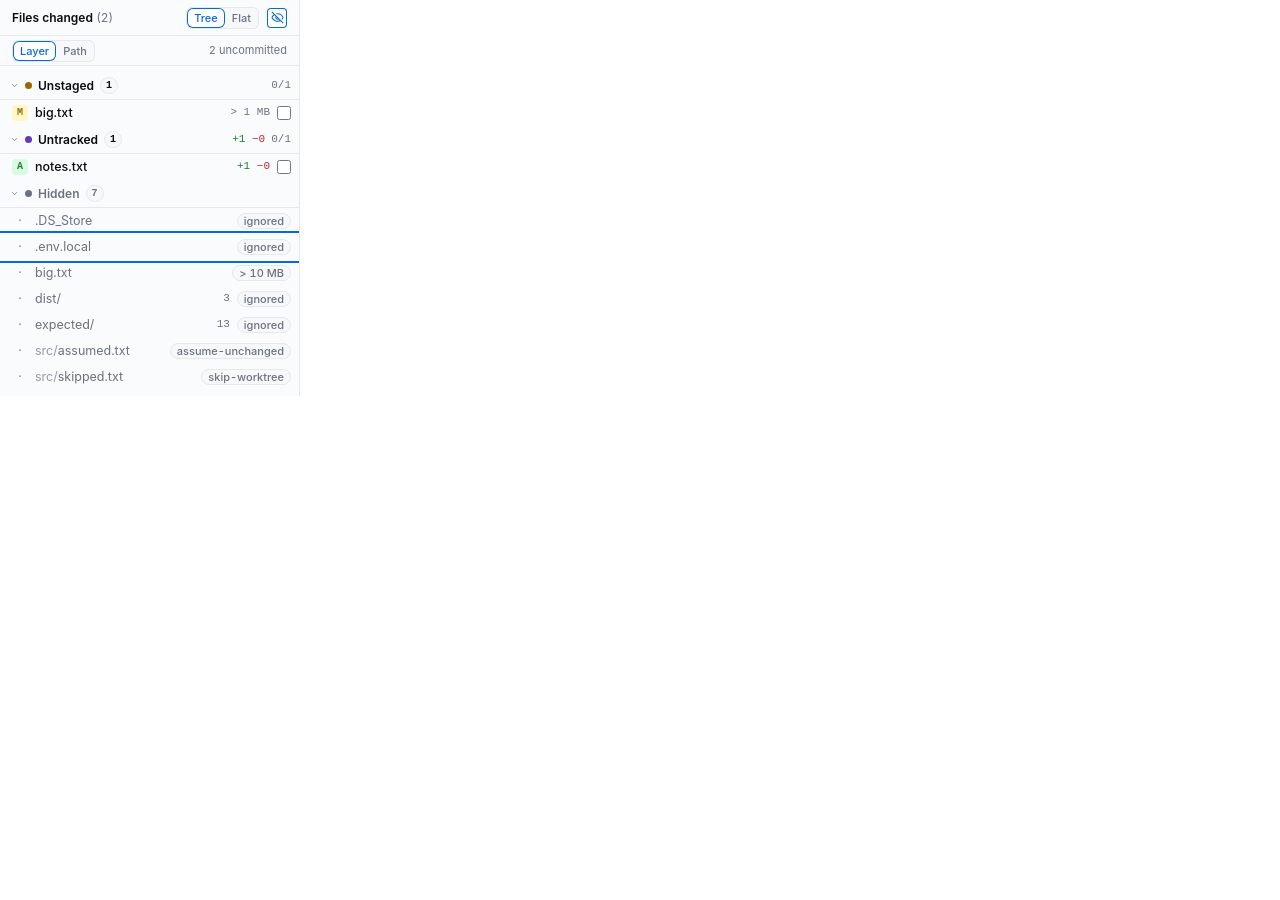
Scenario: WhyHiddenPopover (Design §14.3, atlas tab 08) › opens on a focused row with `?` and on a right-click, and closes on Escape
Press ? in the list item "· .env.local ignored", box [0,234,299,260]
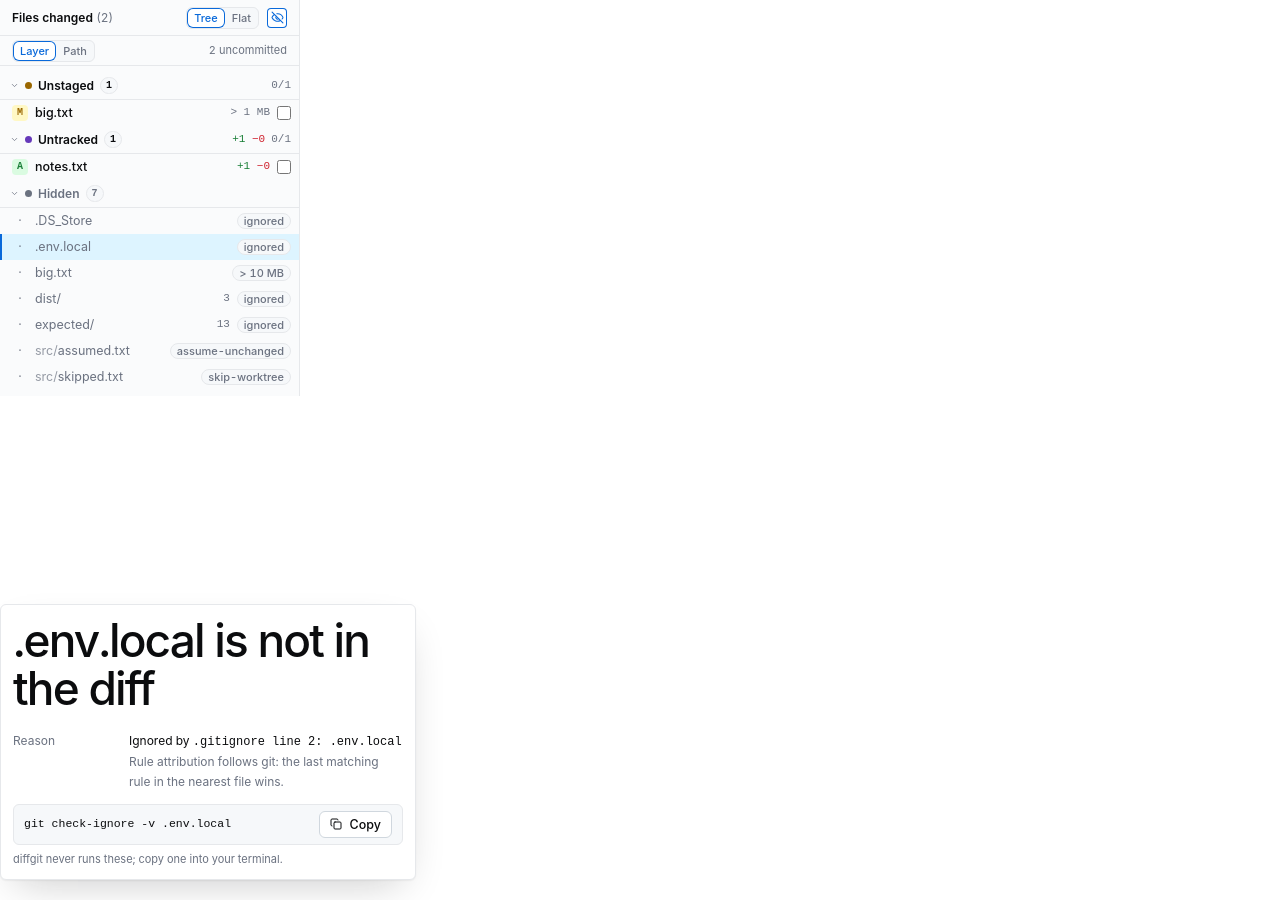
Now the dialog with test id "why-hidden" is shown, box [0,604,416,880]
Press Escape
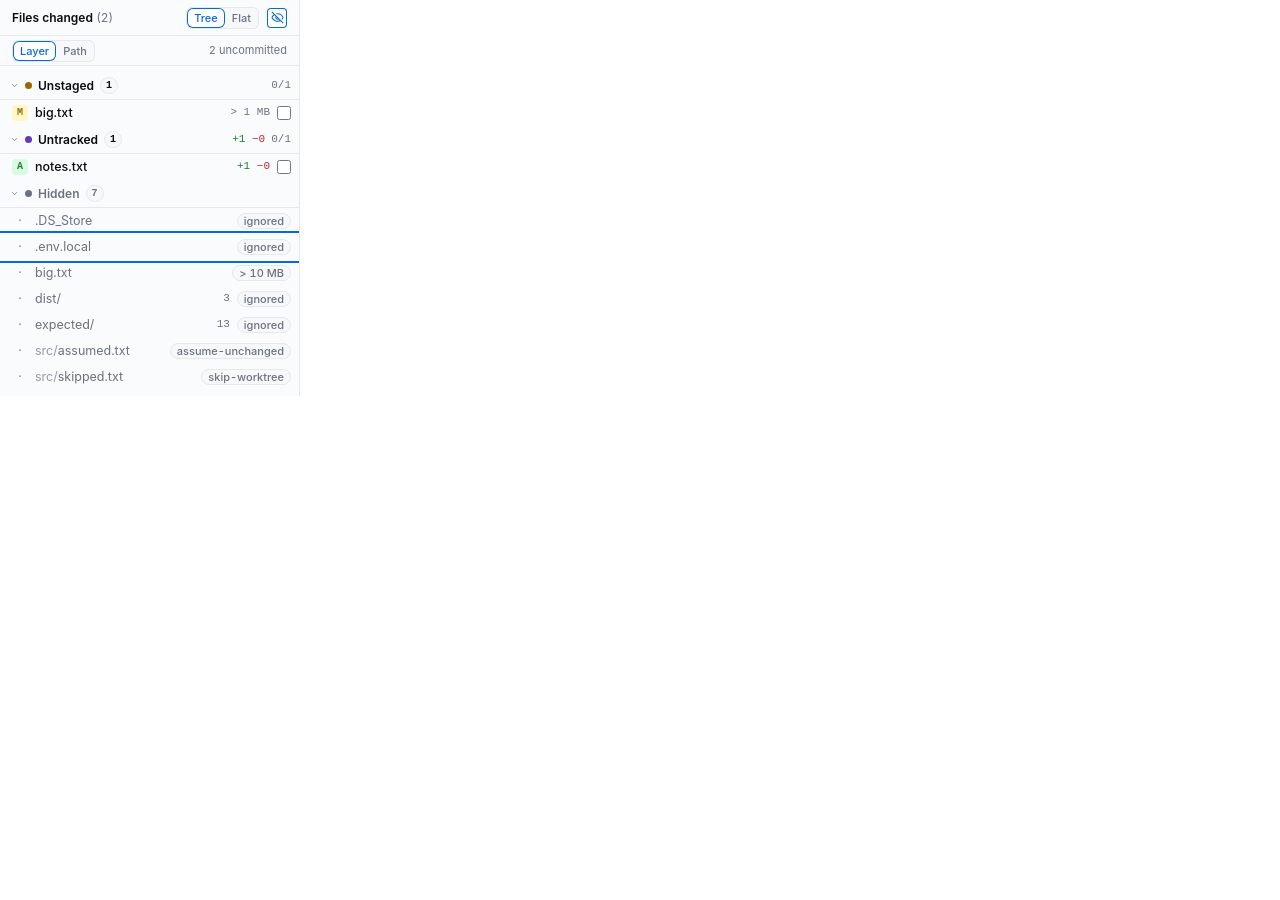
Now the dialog with test id "why-hidden" is gone
Right-click the list item "· big.txt > 10 MB" at (53, 272), box [0,260,299,286]
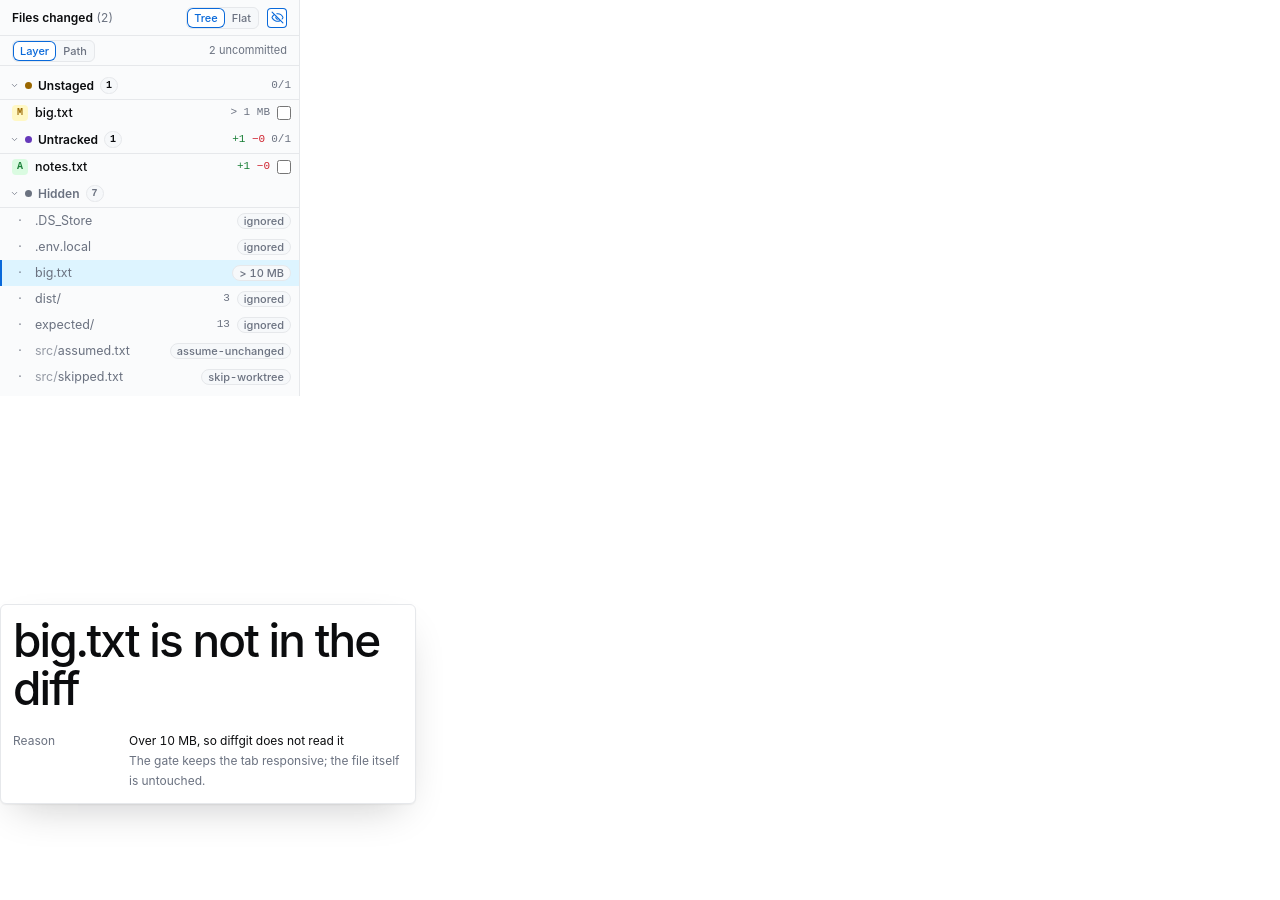
Now the dialog with test id "why-hidden" shows "big.txt", box [13,612,380,716]
